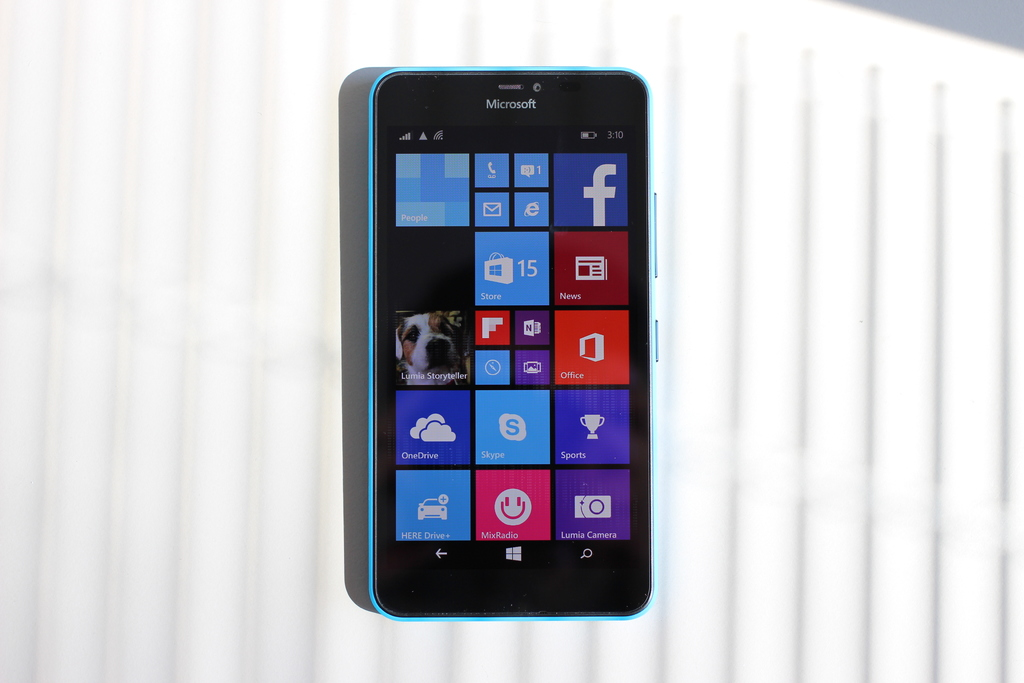Mobile-phone: (360, 57, 660, 618)
